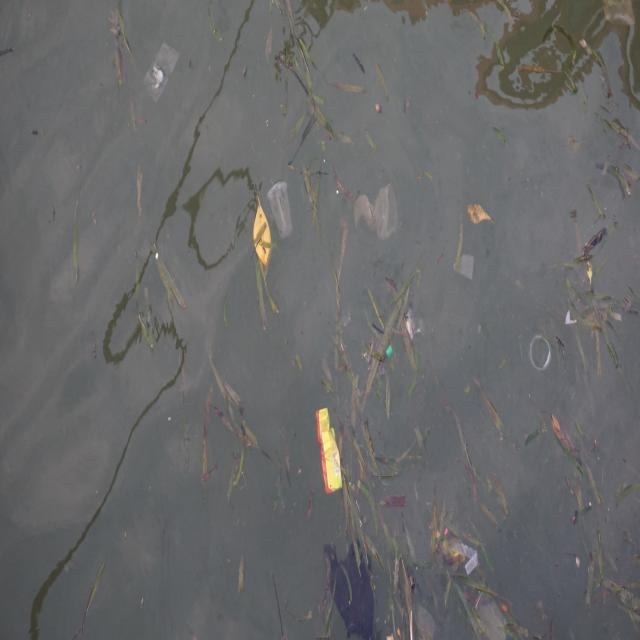Bungkus Makanan: (313, 405, 347, 501)
Bungkus Minuman: (266, 171, 297, 243)
Kantong Plastik: (320, 533, 382, 640), (351, 183, 401, 244), (141, 39, 181, 105)
